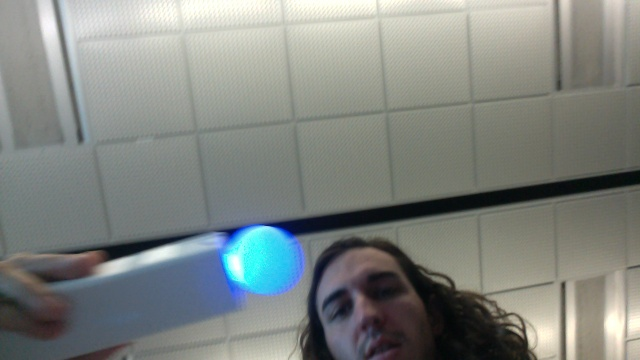wand: (230, 226, 302, 297)
